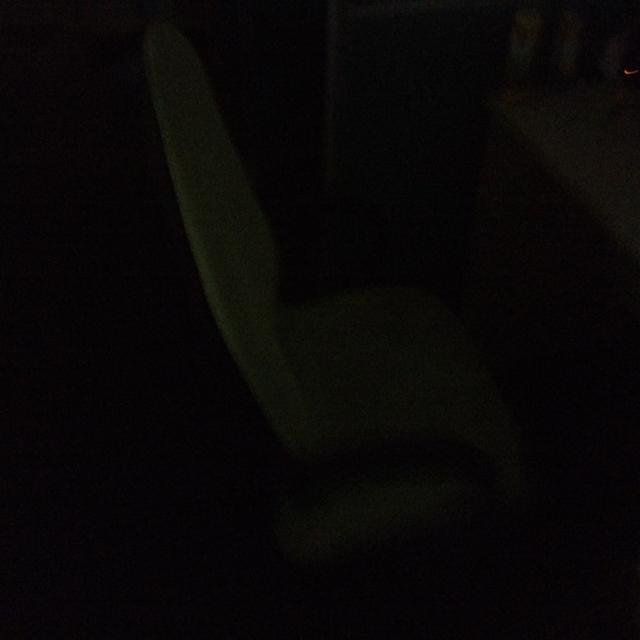Bottle: (554, 7, 593, 98), (601, 4, 640, 90), (511, 0, 547, 86)
Table: (476, 90, 640, 503)
chair: (105, 9, 527, 630)
